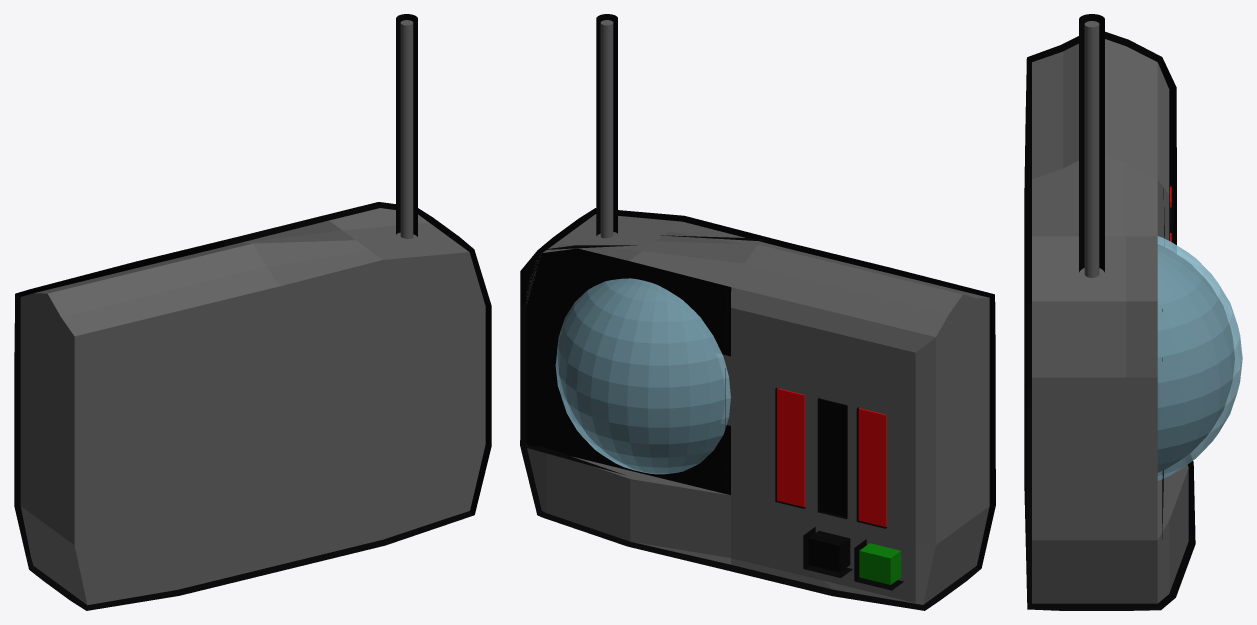
Rendered from radio.fbx.
3 renders of one model, left to right at view 1: azimuth 30°, elevation 25°; view 2: azimuth 150°, elevation 25°; view 3: azimuth 270°, elevation 25°, orthographic. The views are drawn at different scales.
Visible parts, largest first — view 1: Sphere.001; view 2: Sphere.001; view 3: Sphere.001.
Part boxes in pixels (<box>): Sphere.001: <box>14,14,491,610</box>; Sphere.001: <box>520,14,995,610</box>; Sphere.001: <box>1024,14,1242,610</box>.
Bounding box in the file's own units: 71.06 × 79.86 × 27.31.
